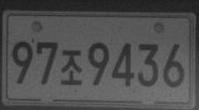3: (137, 43, 159, 87)
4: (111, 42, 135, 88)
6: (162, 43, 185, 88)
7: (37, 41, 58, 84)
9: (86, 41, 109, 85), (12, 40, 34, 84)
조: (60, 49, 81, 85)
